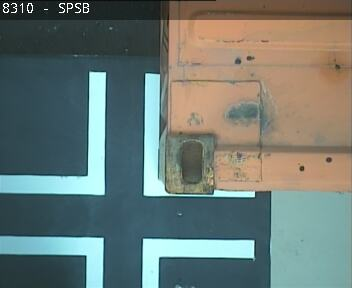groundmarker_1: (1, 72, 255, 199), (1, 233, 253, 288)
